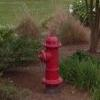Hydrant: (34, 30, 68, 92)
